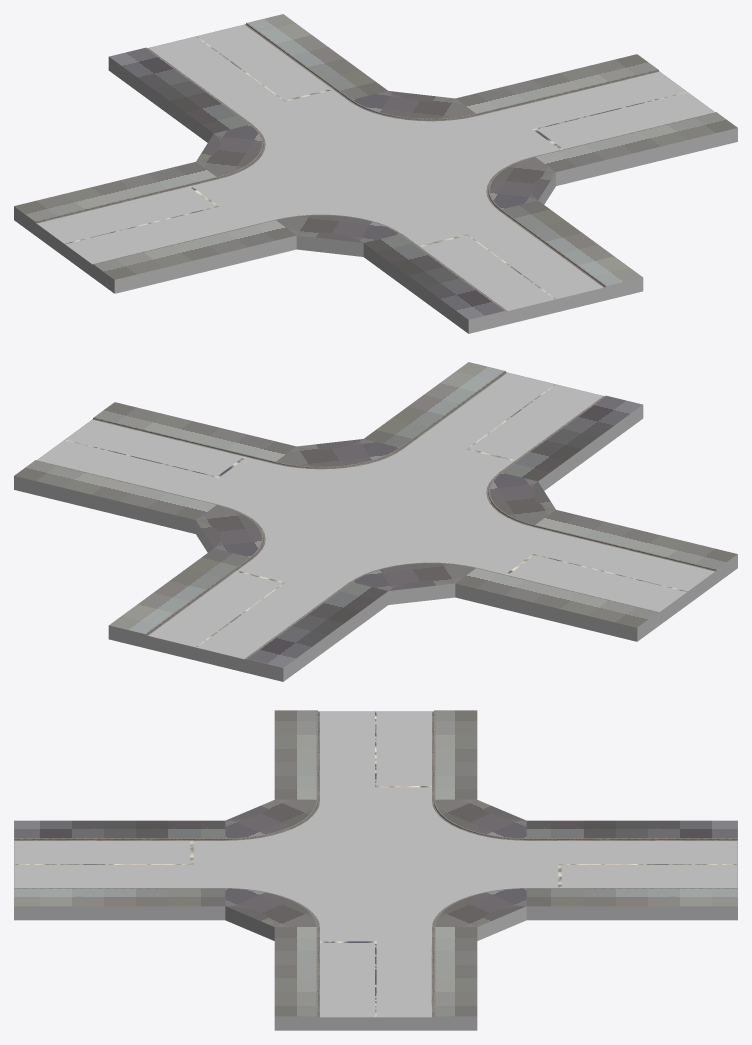
The model's file is Road_01a_x.fbx.
3 renders of one model, top to bottom at view 1: azimuth 30°, elevation 25°; view 2: azimuth 150°, elevation 25°; view 3: azimuth 270°, elevation 25°, orthographic.
Visible parts, largest first — view 1: Road_01a_x; view 2: Road_01a_x; view 3: Road_01a_x.
Boxes of the visible parts, left/top/right/bottom form: Road_01a_x: left=14, top=14, right=737, bottom=333; Road_01a_x: left=14, top=362, right=737, bottom=681; Road_01a_x: left=14, top=710, right=737, bottom=1030.
Size of the model in its own units: 100 by 2.15 by 100.
